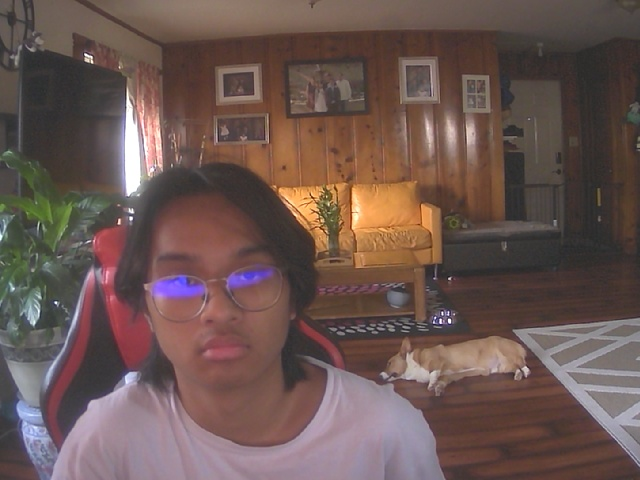neutral: (137, 170, 308, 391)
